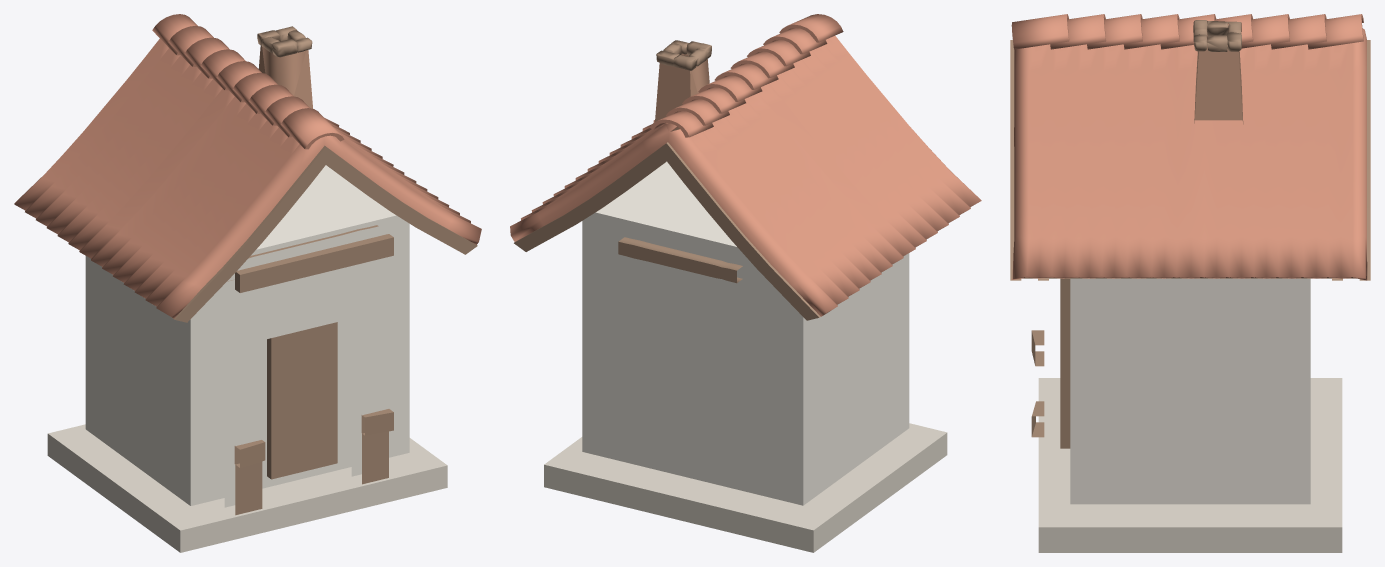
Rendered from cottage-plaster.glb.
3 renders of one model, left to right at view 1: azimuth 30°, elevation 25°; view 2: azimuth 150°, elevation 25°; view 3: azimuth 270°, elevation 25°, orthographic. The views are drawn at different scales.
Parts seen in each view (by area): view 1: cottage; view 2: cottage; view 3: cottage.
Boxes of the visible parts, <box> form: cottage: <box>14,14,481,552</box>; cottage: <box>510,14,981,552</box>; cottage: <box>1010,14,1370,552</box>.
Size of the model in its own units: 0.9425 by 1.15 by 0.7882.
